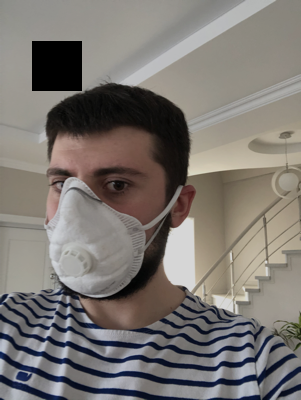with_mask: (45, 151, 149, 300)
